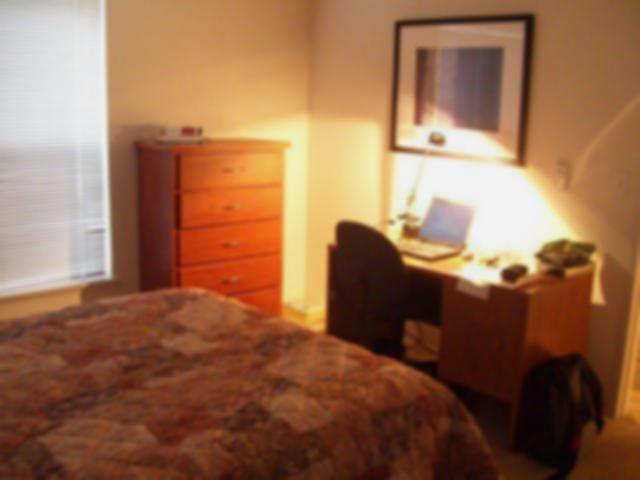Armario: (145, 142, 281, 312)
Otro Obstaculo: (521, 350, 622, 468)
